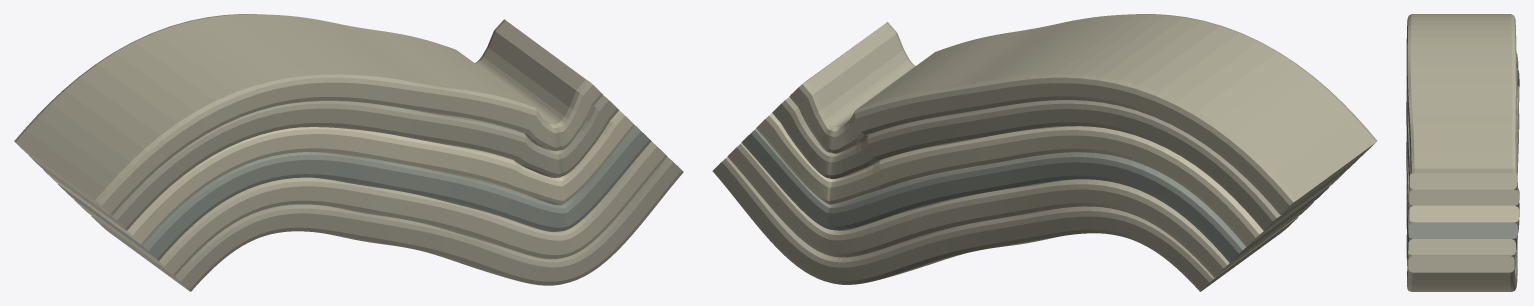
The picture shows the model from 3 angles, left to right: view 1: azimuth 30°, elevation 25°; view 2: azimuth 150°, elevation 25°; view 3: azimuth 270°, elevation 25°; orthographic projection. The views are drawn at different scales.
Parts seen in each view (by area): view 1: Continuous folded bed 06, Continuous folded bed 01, Continuous folded bed 02, Continuous folded bed 03, Continuous folded bed 05, Continuous folded bed 04; view 2: Continuous folded bed 06, Continuous folded bed 01, Continuous folded bed 03, Continuous folded bed 02, Continuous folded bed 05, Continuous folded bed 04; view 3: Continuous folded bed 06, Continuous folded bed 01, Continuous folded bed 04, Continuous folded bed 05, Continuous folded bed 02, Continuous folded bed 03.
Boxes of the visible parts, x1,y1,x2,y2 form: Continuous folded bed 06: (14, 14, 602, 215); Continuous folded bed 01: (91, 157, 683, 291); Continuous folded bed 02: (74, 141, 667, 276); Continuous folded bed 03: (58, 126, 651, 260); Continuous folded bed 05: (29, 95, 618, 230); Continuous folded bed 04: (43, 110, 635, 245); Continuous folded bed 06: (789, 14, 1377, 214); Continuous folded bed 01: (712, 157, 1298, 291); Continuous folded bed 03: (741, 128, 1328, 262); Continuous folded bed 02: (727, 143, 1314, 277); Continuous folded bed 05: (772, 97, 1359, 230); Continuous folded bed 04: (756, 113, 1343, 246); Continuous folded bed 06: (1406, 14, 1519, 200); Continuous folded bed 01: (1407, 108, 1519, 291); Continuous folded bed 04: (1406, 53, 1519, 232); Continuous folded bed 05: (1406, 91, 1519, 216); Continuous folded bed 02: (1406, 85, 1519, 269); Continuous folded bed 03: (1406, 68, 1519, 250).
Size of the model in its own units: 0.95 by 0.4236 by 0.2568.
